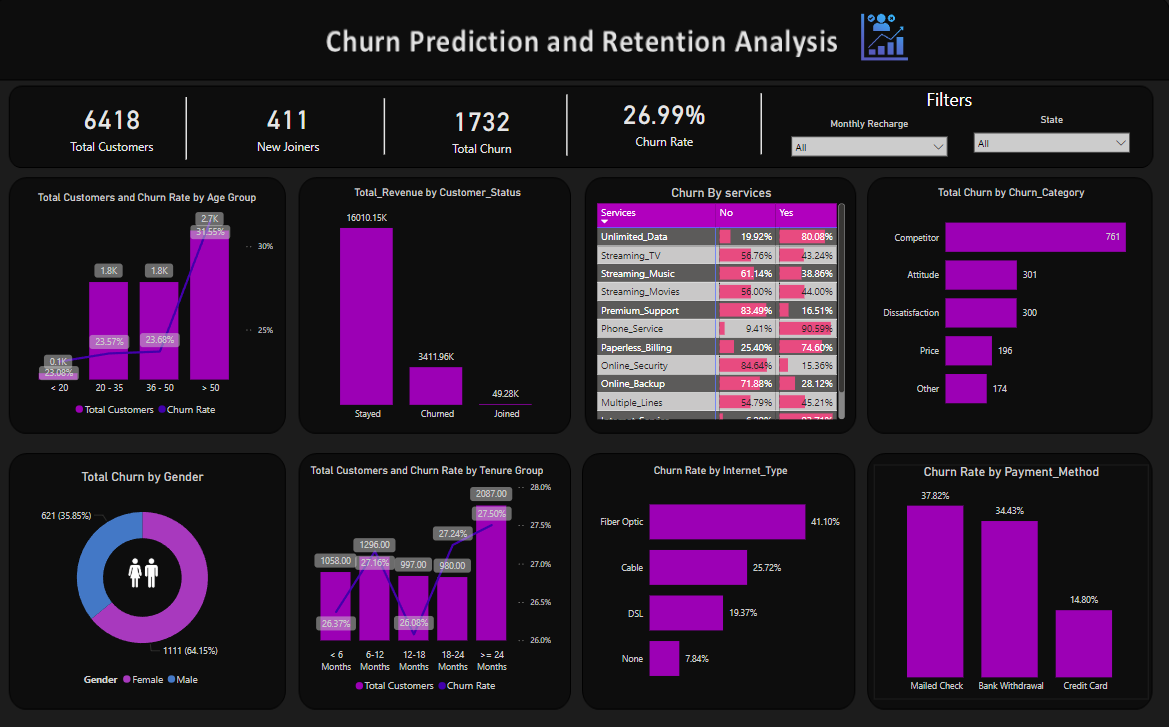

This screenshot's page, from the dashboard's own definition file:
{"tool":"powerbi","page":{"name":"Summary","canvas":[1600,1000],"ordinal":0},"visuals":[{"type":"lineStackedColumnComboChart","fields":{"Category":["mapping_TenureGrp.Tenure Group"],"Y2":["Key Measures.Churn Rate"],"Y":["Key Measures.Total Customers"]},"box":[410.7,637.4,356.2,320.4],"z":0},{"type":"barChart","fields":{"Category":["prod_Churn.Churn_Category"],"Y":["Key Measures.Total Churn"]},"box":[1198,257.3,374.9,323.8],"z":1000},{"type":"clusteredColumnChart","title":"Total_Revenue by Customer_Status","fields":{"Category":["prod_Churn.Customer_Status"],"Y":["Sum(prod_Churn.Total_Revenue)"]},"box":[427.7,257.3,351.1,328.9],"z":2000},{"type":"barChart","fields":{"Y":["Key Measures.Churn Rate"],"Category":["prod_Churn.Internet_Type"]},"box":[814.6,637.4,349.4,320.4],"z":3000},{"type":"donutChart","fields":{"Category":["prod_Churn.Gender"],"Y":["Key Measures.Total Churn"]},"box":[27.3,644.2,347.7,305],"z":4000},{"type":"lineStackedColumnComboChart","fields":{"Category":["mapping_Agegrp.Age Group"],"Y":["Key Measures.Total Customers"],"Y2":["Key Measures.Churn Rate"]},"box":[27.3,264.1,359.6,317],"z":5000},{"type":"pivotTable","title":"Churn By services","fields":{"Rows":["prod_services.Services"],"Columns":["prod_services.Status"],"Values":["Sum(prod_services.Churn Status)"]},"box":[816.3,257.3,347.7,323.8],"z":6000},{"type":"columnChart","fields":{"Y":["Key Measures.Churn Rate"],"Category":["prod_Churn.Payment_Method"]},"box":[1198,637.4,374.9,320.4],"z":7000},{"type":"card","fields":{"Values":["Key Measures.Total Customers"]},"box":[27.3,124.4,264.1,100.5],"z":8000},{"type":"card","fields":{"Values":["Key Measures.New Joiners"]},"box":[267.6,124.4,264.1,100.5],"z":9000},{"type":"card","fields":{"Values":["Key Measures.Total Churn"]},"box":[531.7,127.8,264.1,100.5],"z":10000},{"type":"card","fields":{"Values":["Key Measures.Churn Rate"]},"box":[780.5,117.6,264.1,100.5],"z":11000},{"type":"shape","box":[253.9,136.3,13.6,85.2],"z":12000},{"type":"shape","box":[502.7,138,56.2,76.7],"z":13000},{"type":"shape","box":[751.5,132.9,56.2,83.5],"z":14000},{"type":"shape","box":[1014,131.2,61.4,83.5],"z":15000},{"type":"image","box":[168.1,754.7,66.9,60],"z":16000},{"type":"image","box":[1164.7,17.2,97.8,75.5],"z":17000},{"type":"slicer","title":"Monthly Recharge","fields":{"Values":["Predictions.Monthly_Charge"]},"box":[1075.5,164.7,233.3,61.7],"z":18000},{"type":"slicer","title":"State","fields":{"Values":["Predictions.State"]},"box":[1324.2,159.5,233.3,61.7],"z":19000},{"type":"textbox","box":[1214.4,118.4,171.5,54.9],"z":20000}]}

Visuals, with their boxes in screenshot pixels (x1, y1, x2, y2), scaled from the page's 1600x1000 canvas onto the 1169x727 screenshot:
lineStackedColumnComboChart - mapping_TenureGrp.Tenure Group x Key Measures.Churn Rate: crop(300, 463, 560, 696)
barChart - prod_Churn.Churn_Category x Key Measures.Total Churn: crop(875, 187, 1149, 422)
"Total_Revenue by Customer_Status" clusteredColumnChart: crop(312, 187, 569, 426)
barChart - Key Measures.Churn Rate x prod_Churn.Internet_Type: crop(595, 463, 850, 696)
donutChart - prod_Churn.Gender x Key Measures.Total Churn: crop(20, 468, 274, 690)
lineStackedColumnComboChart - mapping_Agegrp.Age Group x Key Measures.Total Customers: crop(20, 192, 283, 422)
"Churn By services" pivotTable: crop(596, 187, 850, 422)
columnChart - Key Measures.Churn Rate x prod_Churn.Payment_Method: crop(875, 463, 1149, 696)
card - Key Measures.Total Customers: crop(20, 90, 213, 164)
card - Key Measures.New Joiners: crop(196, 90, 388, 164)
card - Key Measures.Total Churn: crop(388, 93, 581, 166)
card - Key Measures.Churn Rate: crop(570, 85, 763, 159)
shape: crop(186, 99, 195, 161)
shape: crop(367, 100, 408, 156)
shape: crop(549, 97, 590, 157)
shape: crop(741, 95, 786, 156)
image: crop(123, 549, 172, 592)
image: crop(851, 13, 922, 67)
"Monthly Recharge" slicer: crop(786, 120, 956, 165)
"State" slicer: crop(967, 116, 1138, 161)
textbox: crop(887, 86, 1013, 126)
